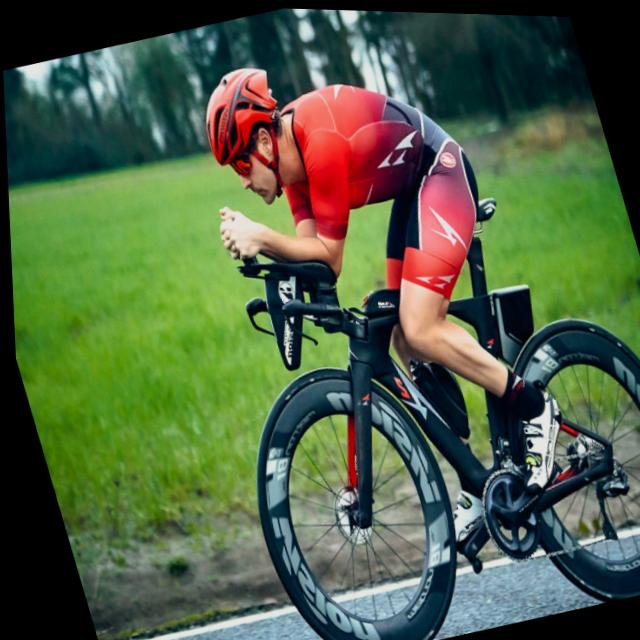TT-bike: (175, 154, 640, 640)
